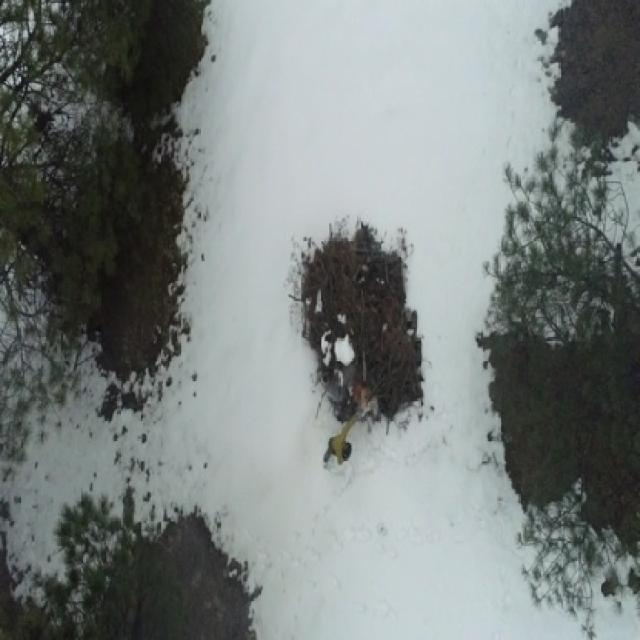Fire: (352, 376, 372, 409)
